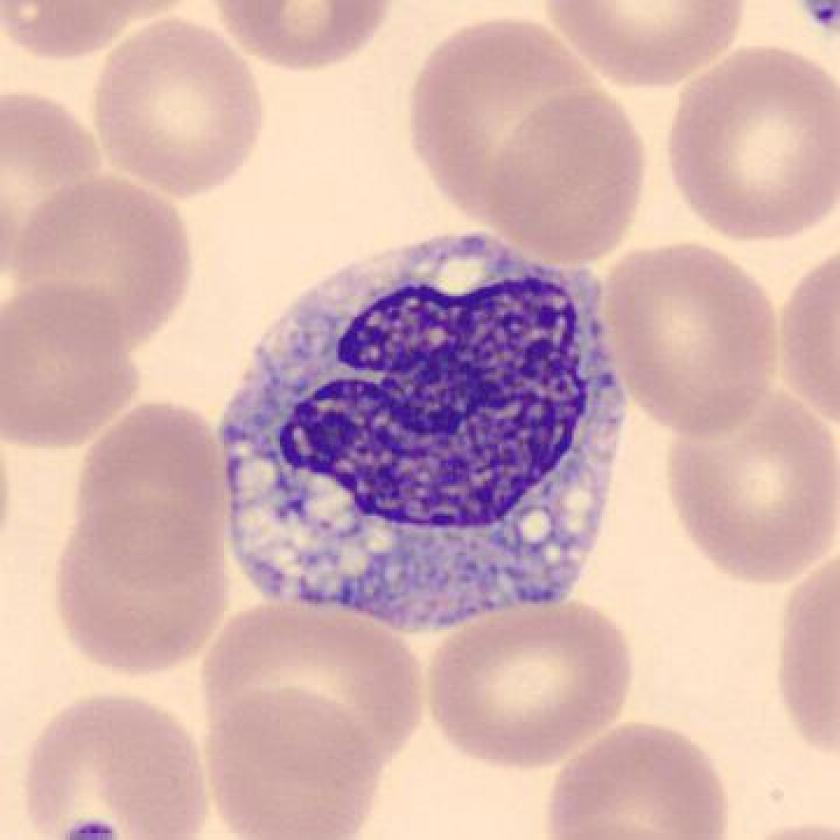monocyte: (206, 209, 645, 658)
